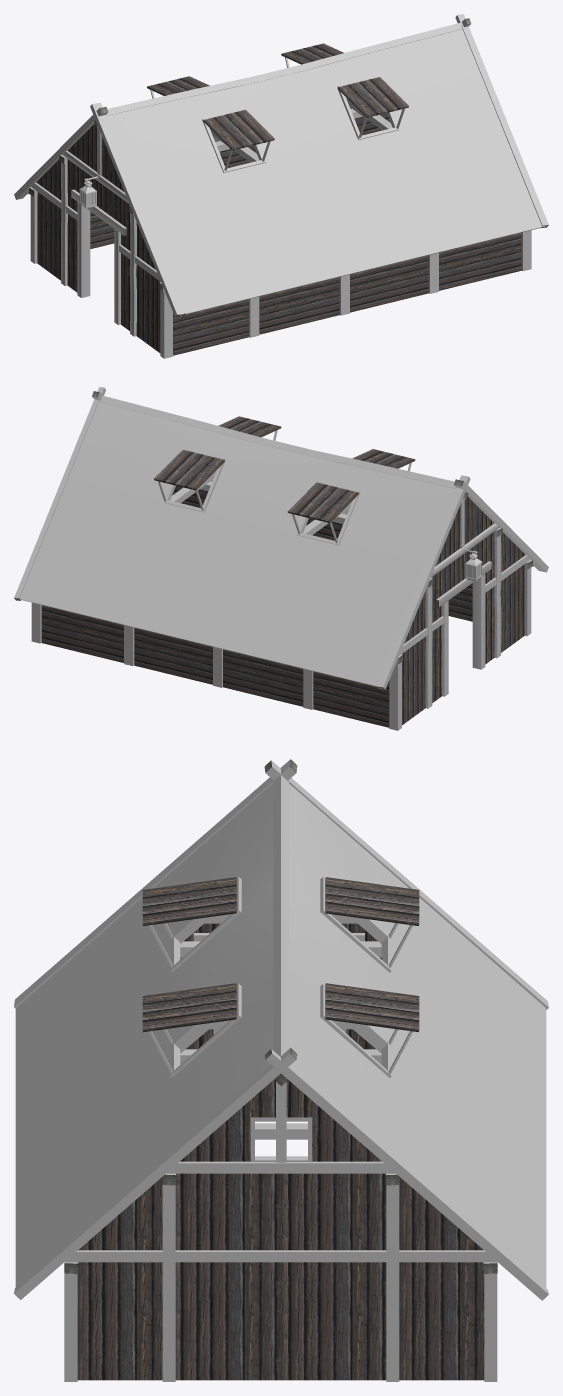
Rendered from v-house.fbx.
3 views of the same model, one above another, from view 1: azimuth 30°, elevation 25°; view 2: azimuth 150°, elevation 25°; view 3: azimuth 270°, elevation 25° (orthographic). The views are drawn at different scales.
Visible parts, largest first — view 1: Mesh; view 2: Mesh; view 3: Mesh.
Boxes of the visible parts, bbox=[...] form: Mesh: bbox=[14, 14, 548, 358]; Mesh: bbox=[14, 387, 548, 730]; Mesh: bbox=[14, 759, 548, 1381].
Bounding box in the file's own units: 1249 × 636 × 931.
